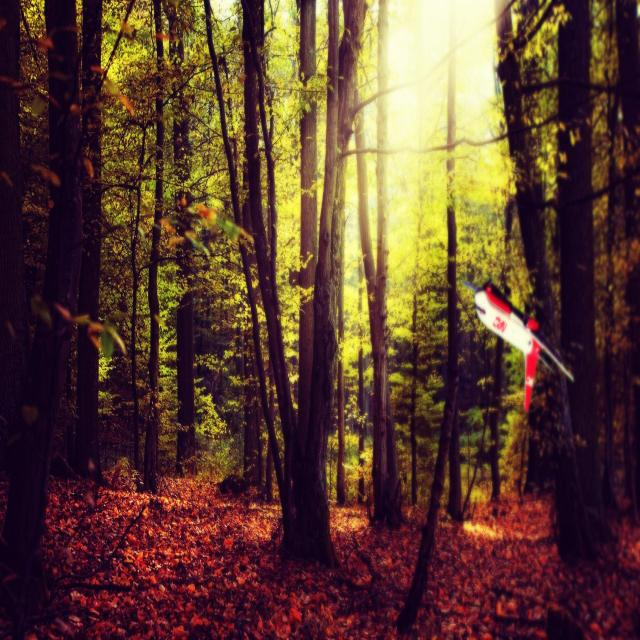airplane: (462, 277, 574, 412)
